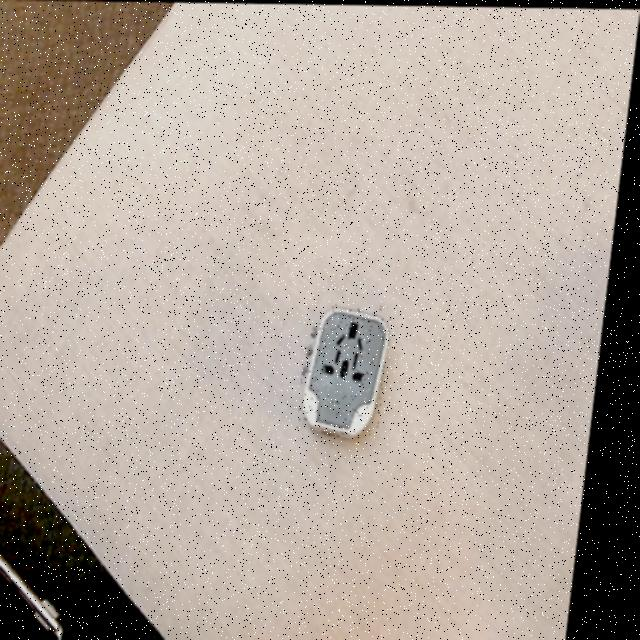adapter: (305, 303, 400, 437)
